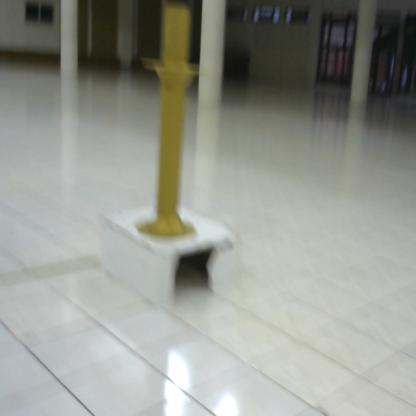pole: (133, 1, 207, 245)
